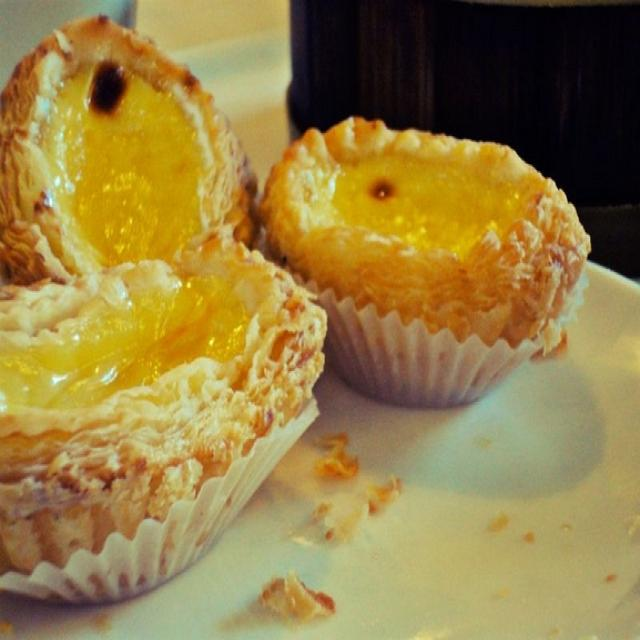炸货点心: (3, 7, 616, 621)
蛋糕甜品: (3, 7, 616, 621)
